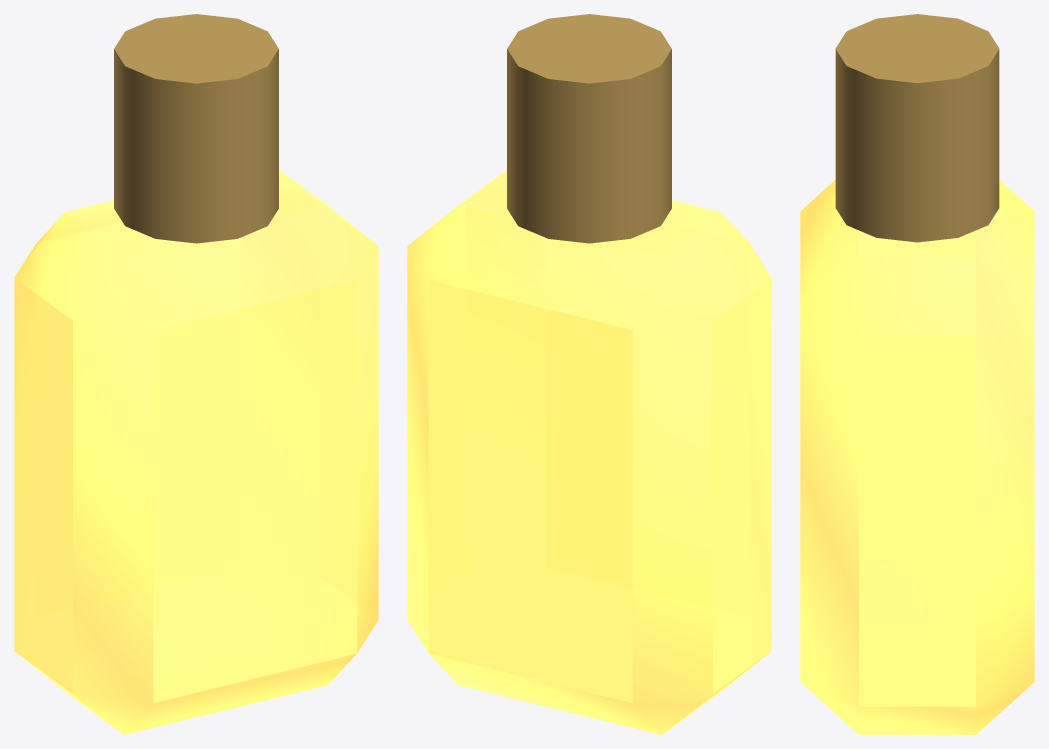
File: mall-perfume.glb
3 views of the same model, side by side, from view 1: azimuth 30°, elevation 25°; view 2: azimuth 150°, elevation 25°; view 3: azimuth 270°, elevation 25° (orthographic).
Visible parts, largest first — view 1: bottle__amber, cap__brass; view 2: bottle__amber, cap__brass; view 3: bottle__amber, cap__brass.
Boxes of the visible parts, x1,y1,x2,y2 form: bottle__amber: [14, 170, 378, 734]; cap__brass: [114, 14, 278, 243]; bottle__amber: [407, 170, 771, 734]; cap__brass: [507, 14, 671, 243]; bottle__amber: [800, 180, 1034, 734]; cap__brass: [835, 14, 999, 242].
Bounding box in the file's own units: 0.06 × 0.12 × 0.04.
